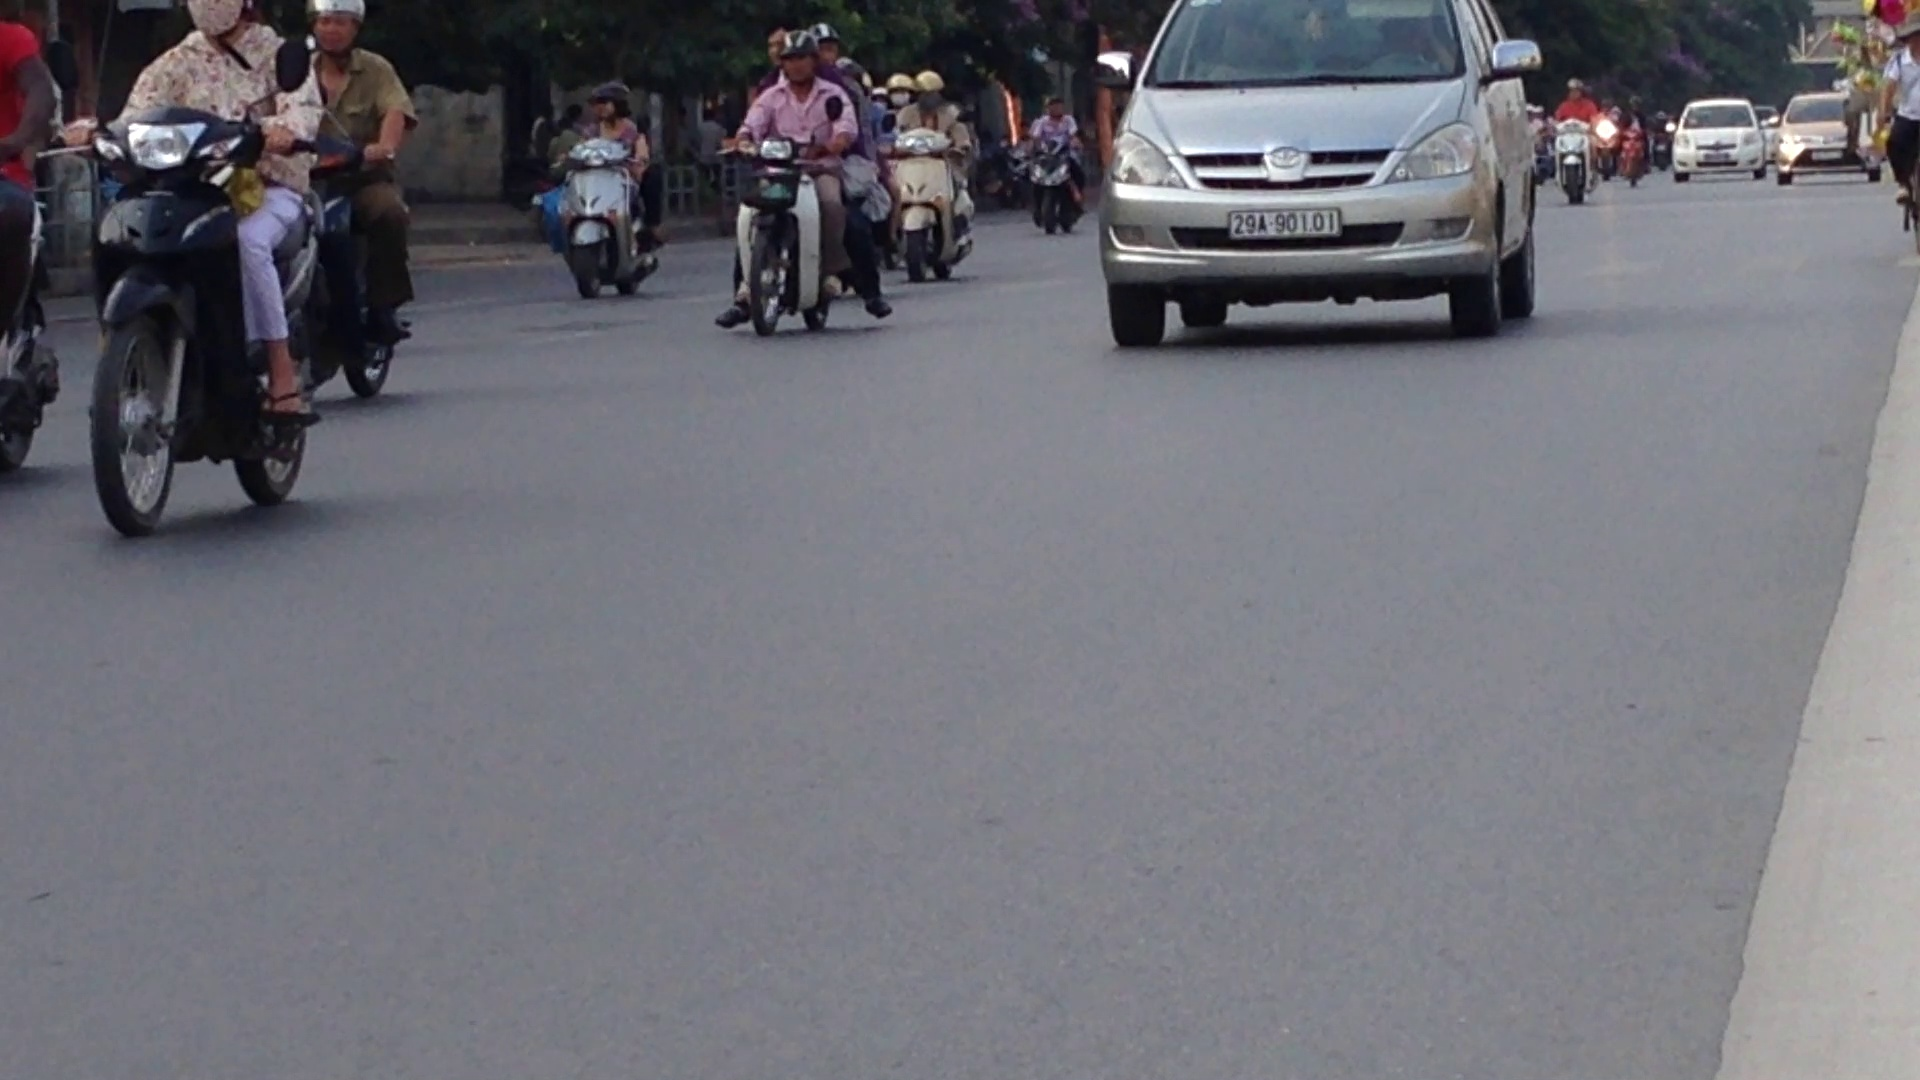vehicle-plate: (1221, 202, 1358, 242)
